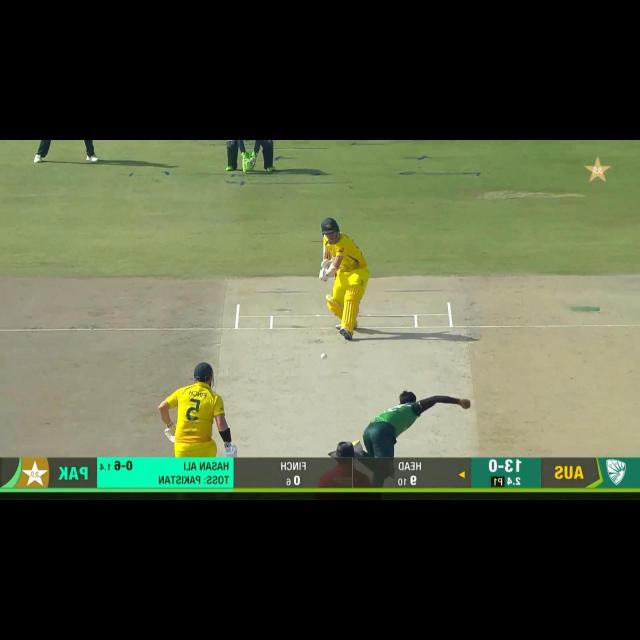bat: (323, 234, 330, 263)
